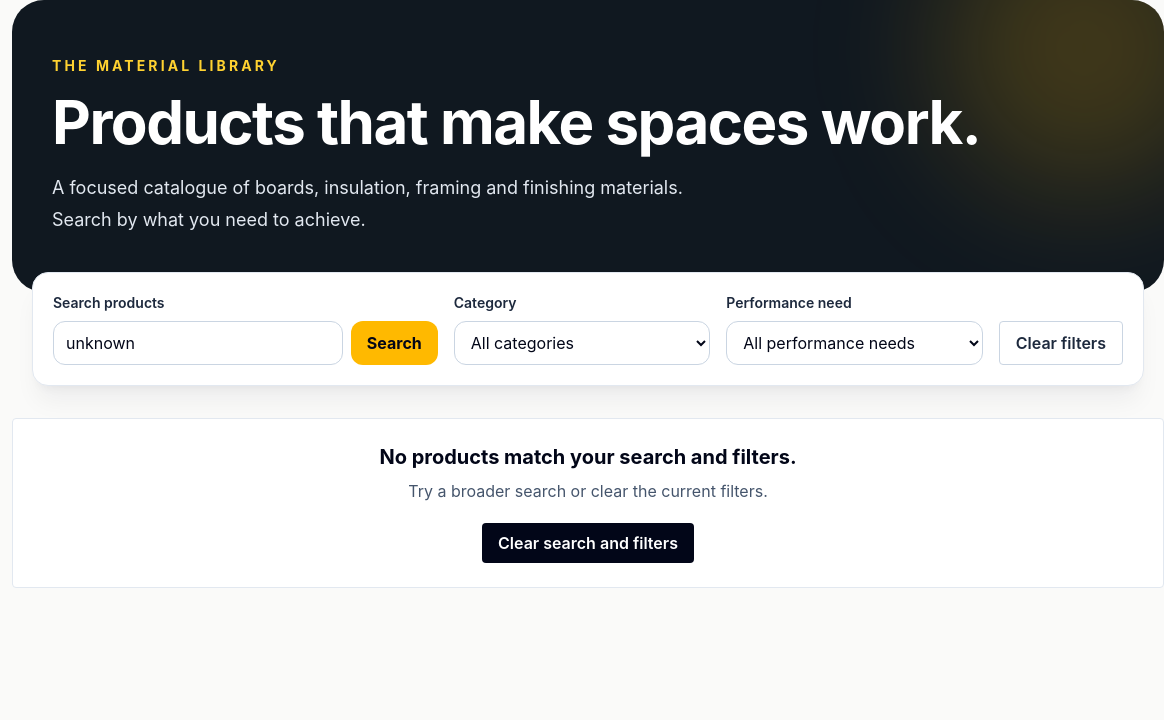
Test: ProductsPage › shows an empty state and clears the active query
Expected: the heading "No products match your search and filters." is shown, [379, 445, 797, 469]
Click the button "Clear search and filters".
click(588, 543)  # box [482, 523, 694, 563]
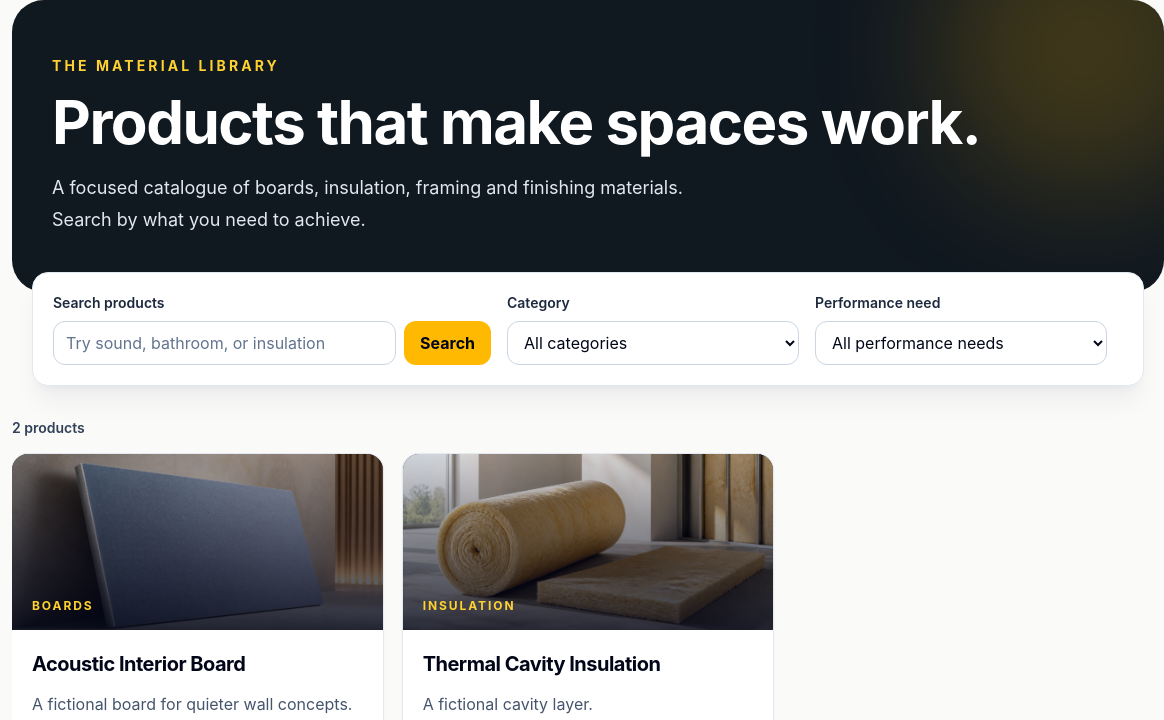
Now the text "2 products" is shown, box [12, 419, 85, 436]
Now the search field labelled "Search products" is empty, box [53, 321, 396, 365]
